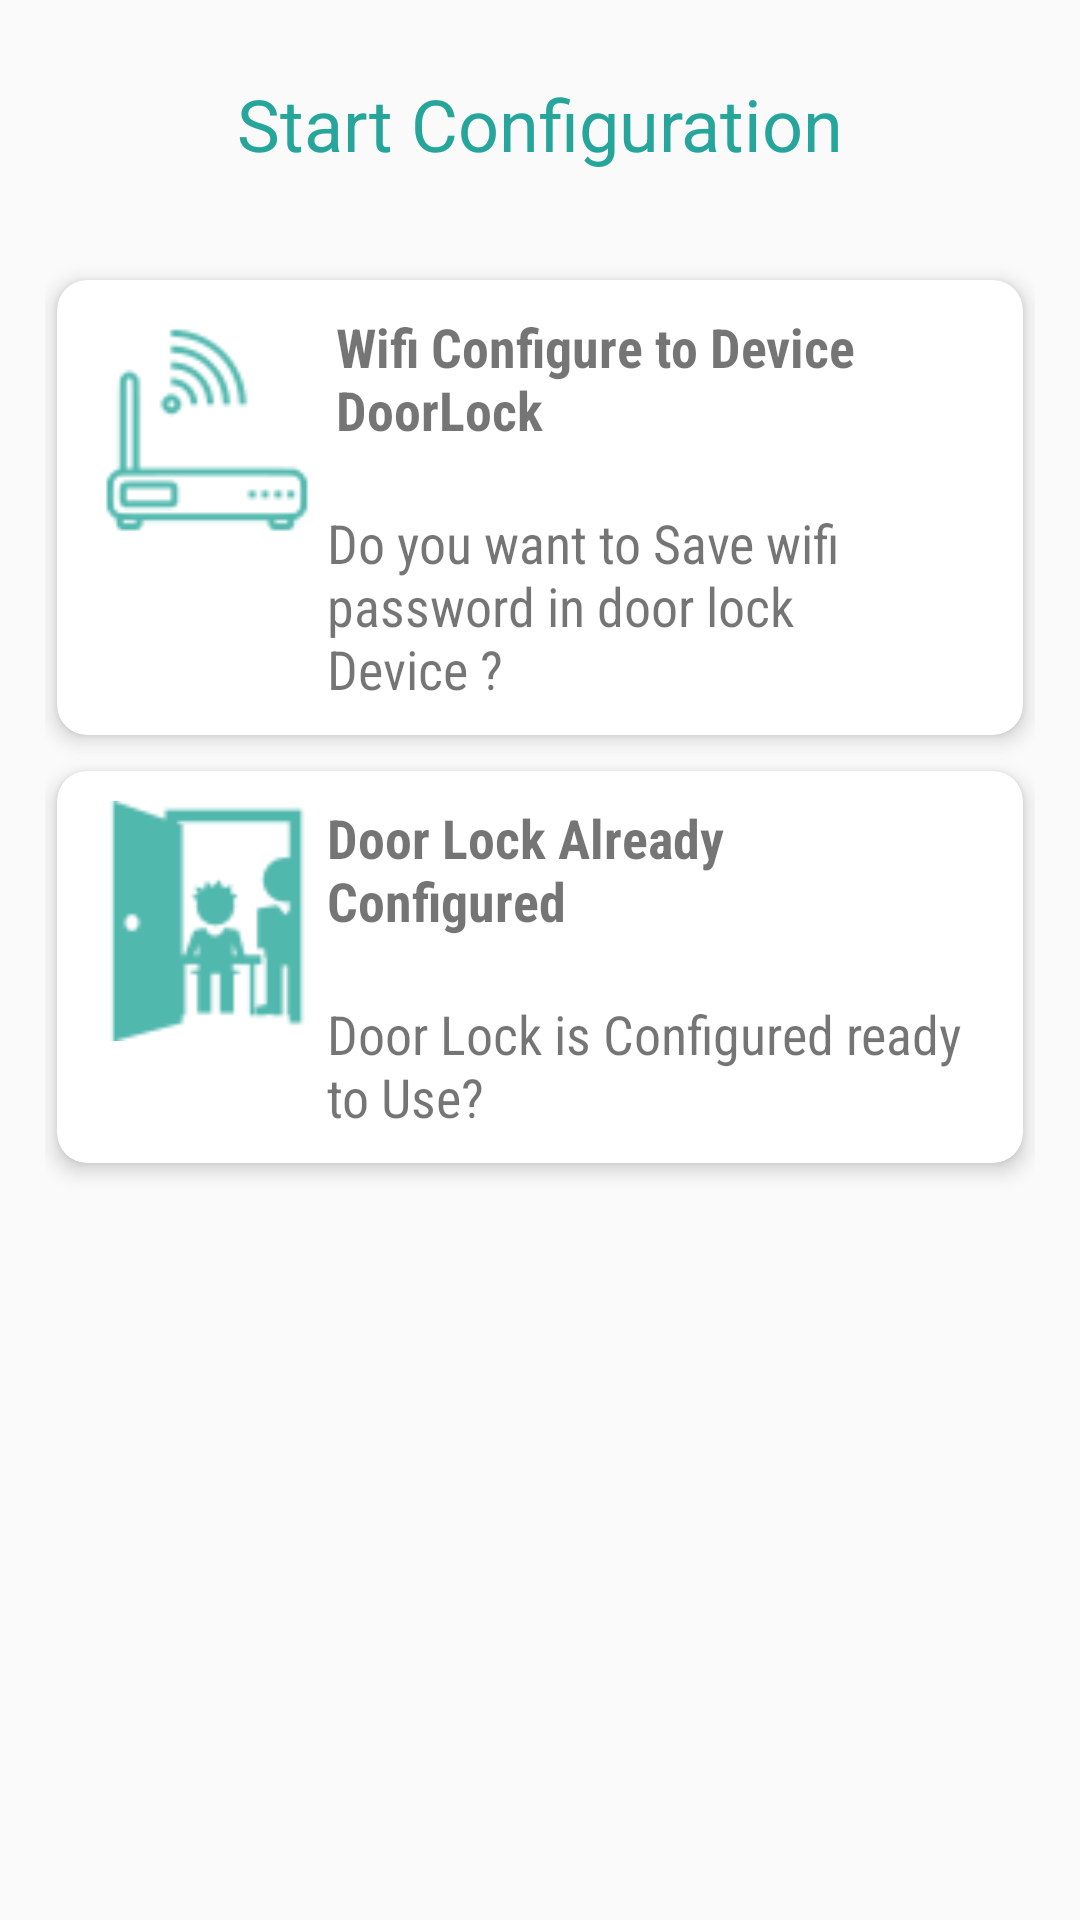

Named icons in this screenshot (1080*1920) and their bounding boxes, (x1, y1, x2, y2):
door open: (112, 801, 304, 1041)
router: (106, 329, 308, 531)
